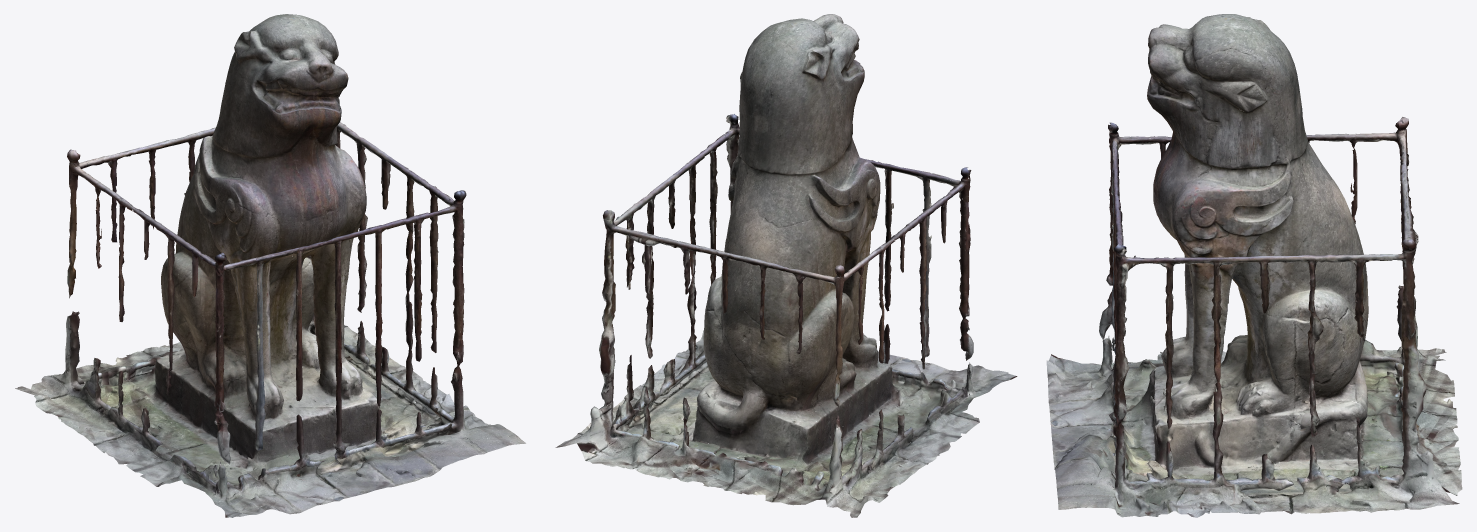
Rendered from confucius-east-luduan.glb.
3 views of the same model, side by side, from view 1: azimuth 30°, elevation 25°; view 2: azimuth 150°, elevation 25°; view 3: azimuth 270°, elevation 25° (orthographic). The views are drawn at different scales.
Visible parts, largest first — view 1: confucius-east-luduan; view 2: confucius-east-luduan; view 3: confucius-east-luduan.
Part boxes in pixels (box(x1,y1,x2,y2)): confucius-east-luduan: box(15, 14, 525, 517); confucius-east-luduan: box(555, 14, 1017, 517); confucius-east-luduan: box(1046, 14, 1462, 517).
Bounding box in the file's own units: 9.23 × 11.41 × 9.9.
Materials: 1 (1 with a texture image).
